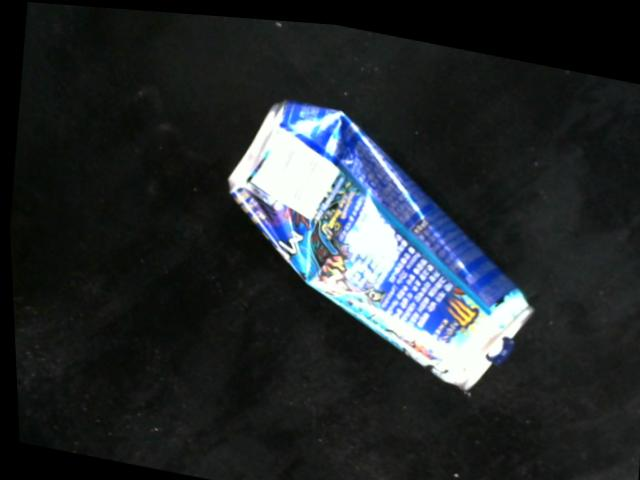can: (222, 82, 537, 394)
